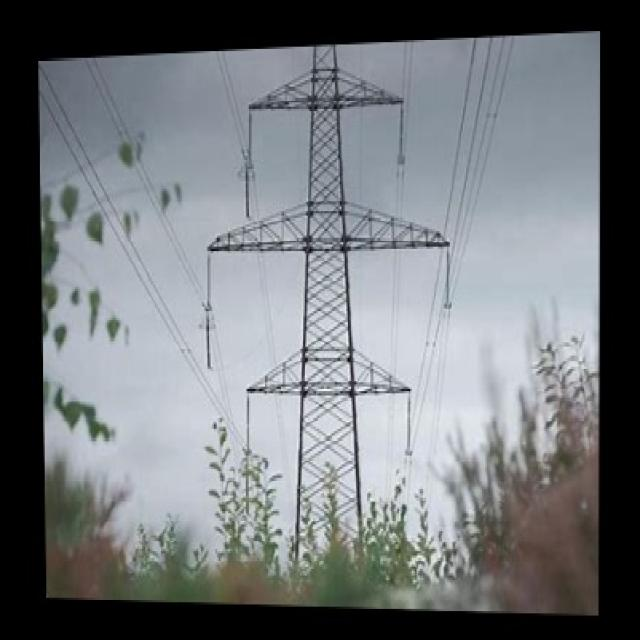utility poles: (191, 378, 458, 595)
